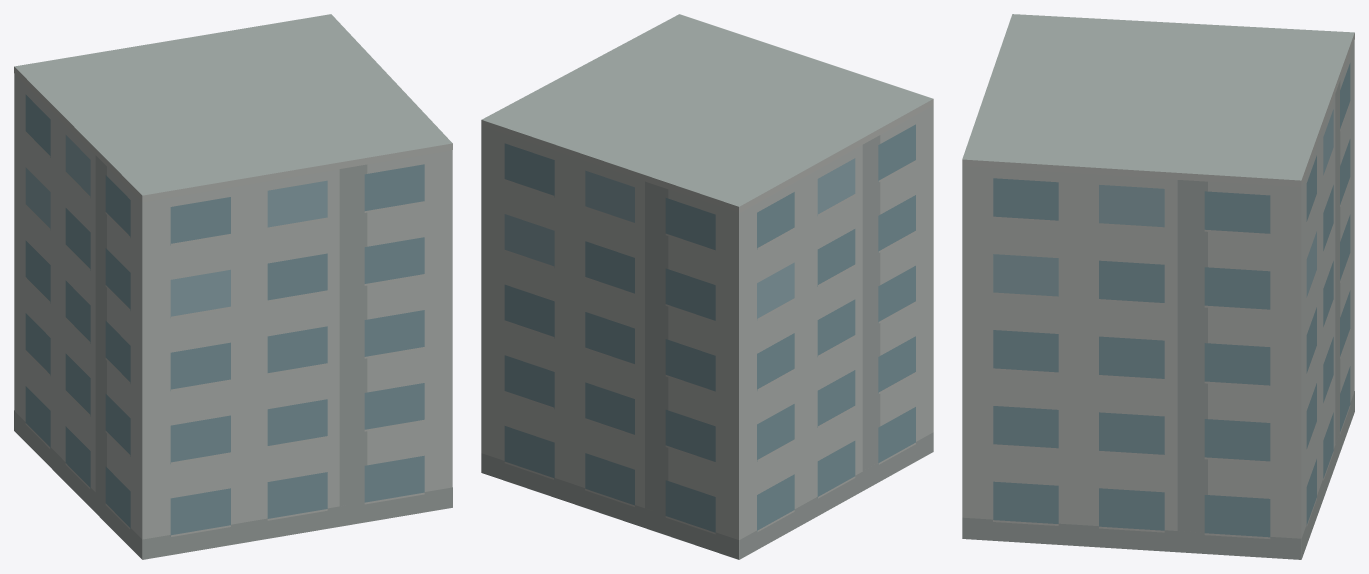
The model's file is survey-upis-32886748.glb.
The picture shows the model from 3 angles, left to right: view 1: azimuth 30°, elevation 25°; view 2: azimuth 150°, elevation 25°; view 3: azimuth 270°, elevation 25°; orthographic projection. The views are drawn at different scales.
Visible parts, largest first — view 1: survey-upis-32886748.tmp; view 2: survey-upis-32886748.tmp; view 3: survey-upis-32886748.tmp.
Part boxes in pixels (bbox=[...]): survey-upis-32886748.tmp: bbox=[14, 14, 452, 559]; survey-upis-32886748.tmp: bbox=[481, 14, 933, 559]; survey-upis-32886748.tmp: bbox=[962, 14, 1354, 559].
Bounding box in the file's own units: 12.53 × 13.3 × 12.49.
